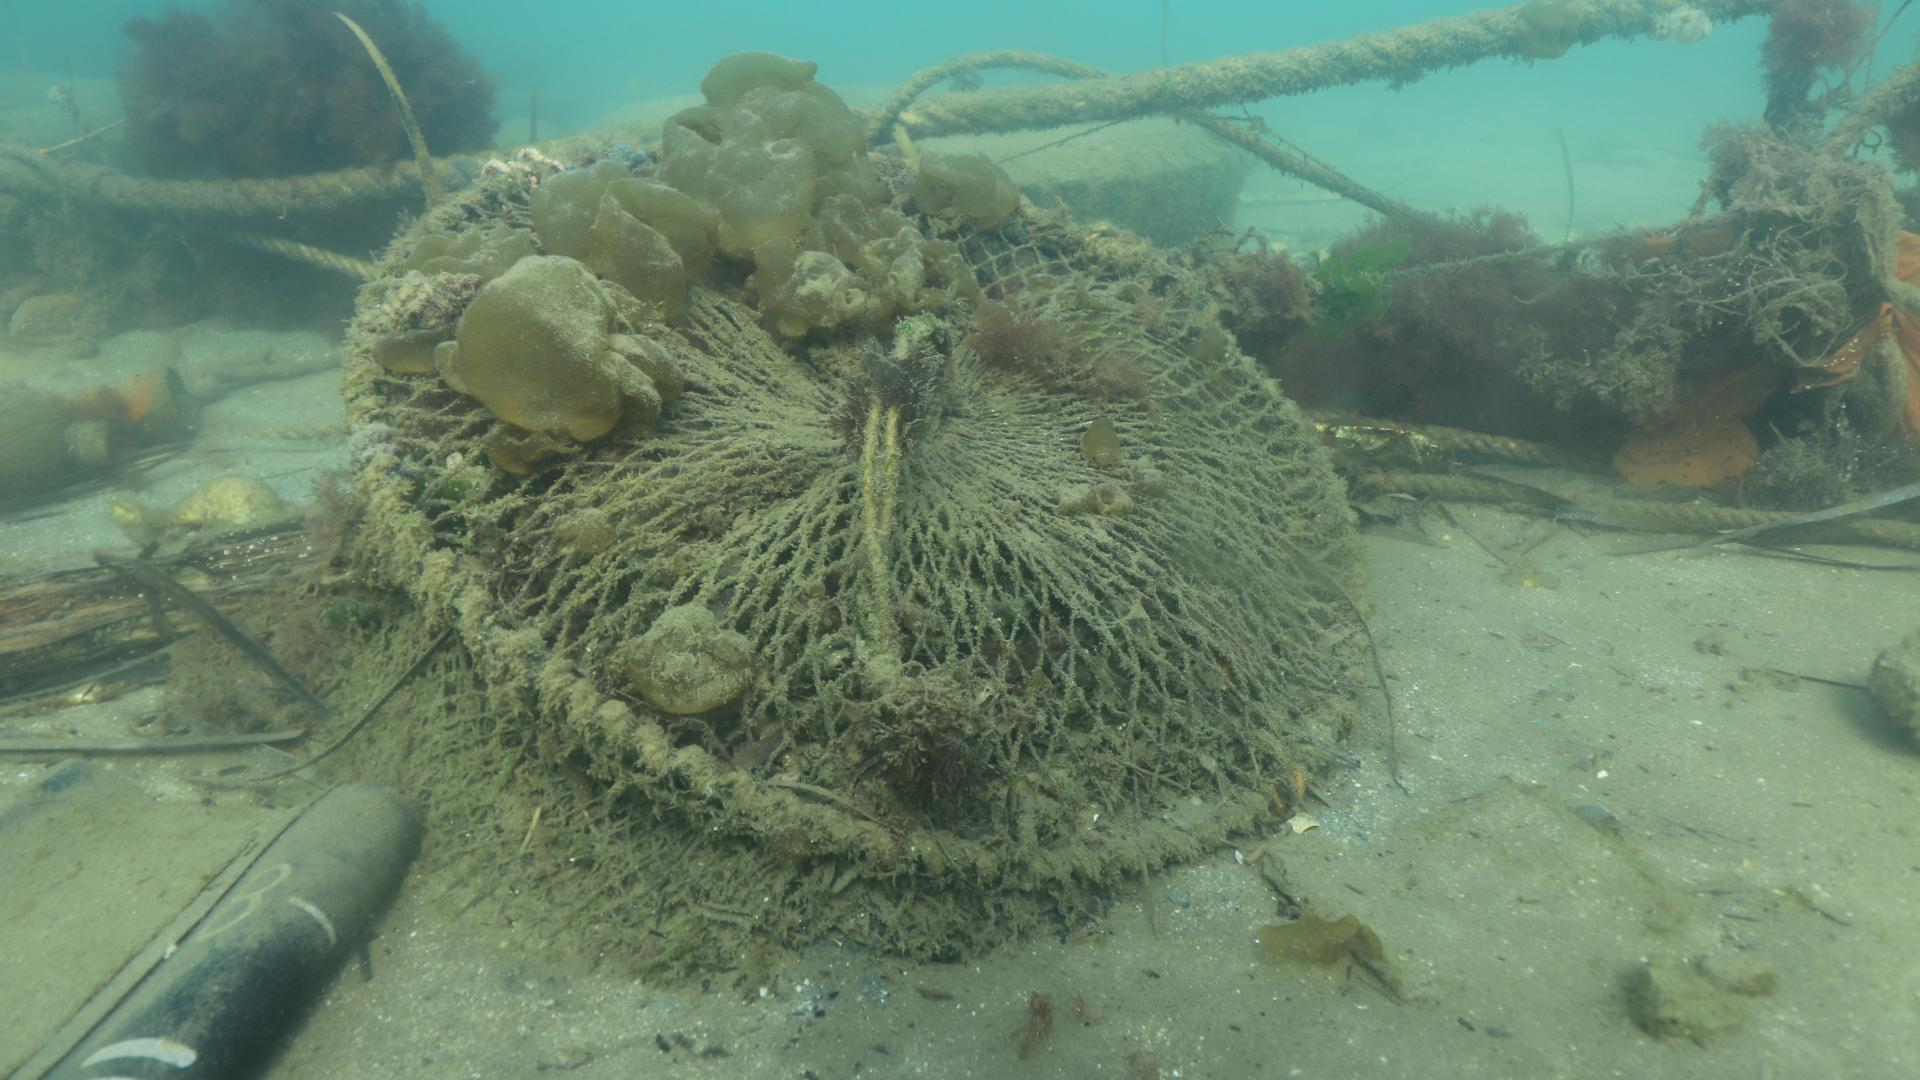bundle of ropes: (866, 0, 1779, 281)
circular fish trap: (324, 144, 1375, 964)
rope: (0, 123, 647, 204), (1358, 469, 1920, 549), (1312, 411, 1551, 465), (220, 228, 378, 284)
